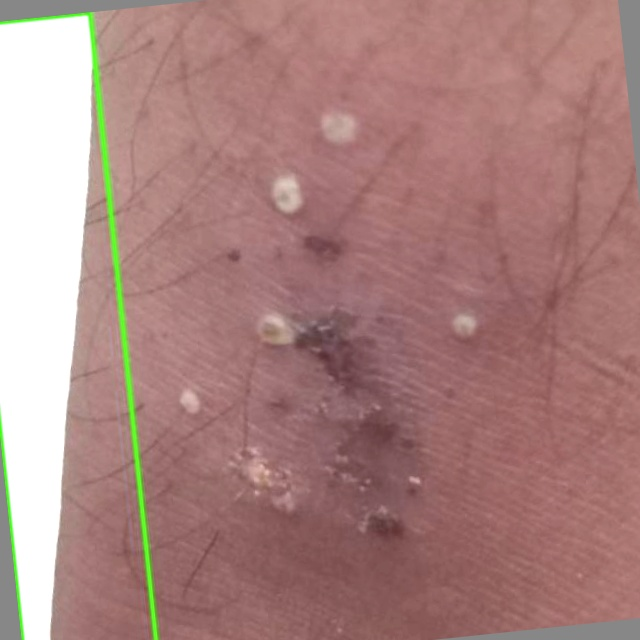Eczema: (0, 13, 155, 639)
